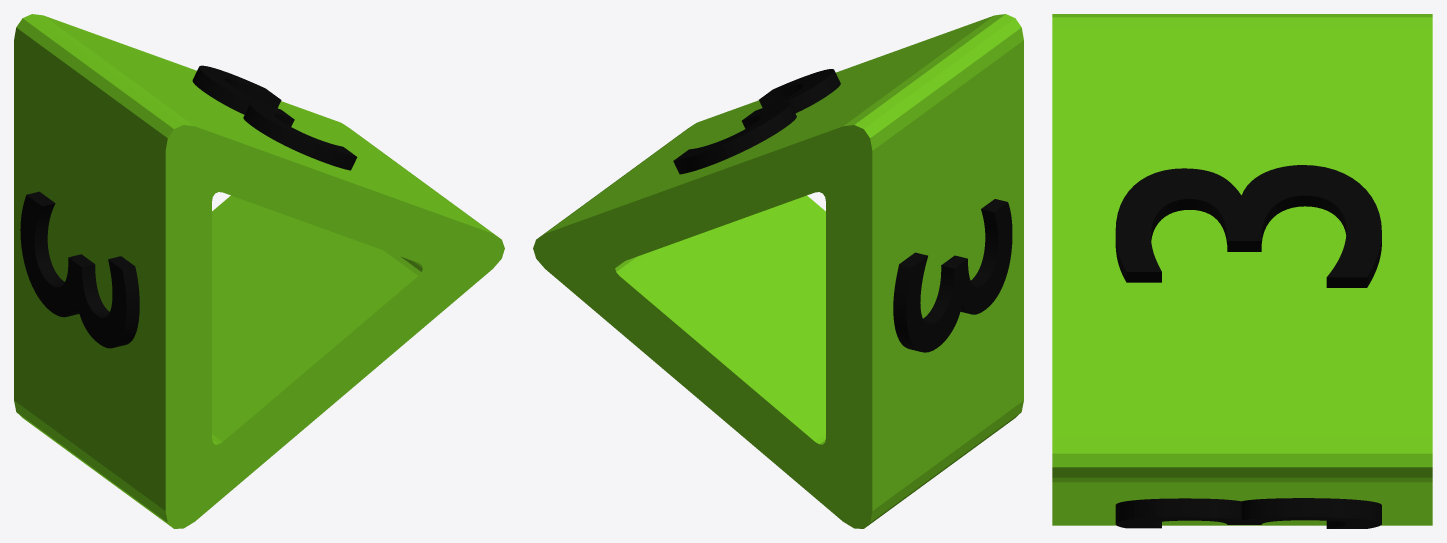
The model's file is Three_shadow.OBJ.
3 renders of one model, left to right at view 1: azimuth 30°, elevation 25°; view 2: azimuth 150°, elevation 25°; view 3: azimuth 270°, elevation 25°, orthographic. The views are drawn at different scales.
Visible parts, largest first — view 1: /ambf/icl/Three_shadow_PuzzleRed3; view 2: /ambf/icl/Three_shadow_PuzzleRed3; view 3: /ambf/icl/Three_shadow_PuzzleRed3.
Part boxes in pixels (left/top/right/bottom): /ambf/icl/Three_shadow_PuzzleRed3: left=14, top=14, right=504, bottom=528; /ambf/icl/Three_shadow_PuzzleRed3: left=533, top=14, right=1023, bottom=528; /ambf/icl/Three_shadow_PuzzleRed3: left=1052, top=14, right=1432, bottom=528.
Bounding box in the file's own units: 0.1305 × 0.1426 × 0.097.
